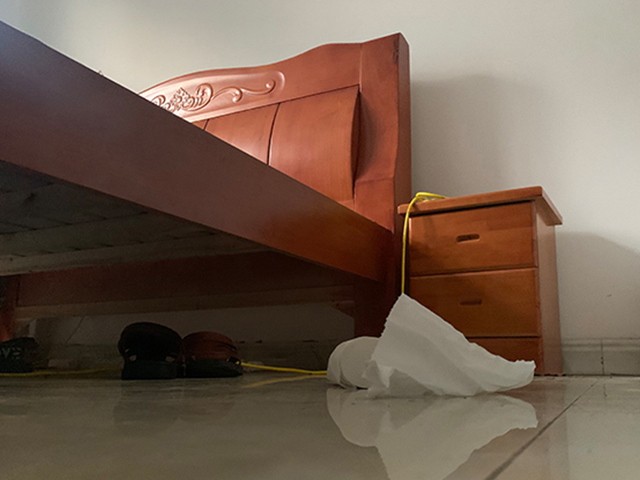bed: (1, 18, 414, 344)
cabinet: (396, 185, 569, 376)
wire: (1, 191, 442, 375)
